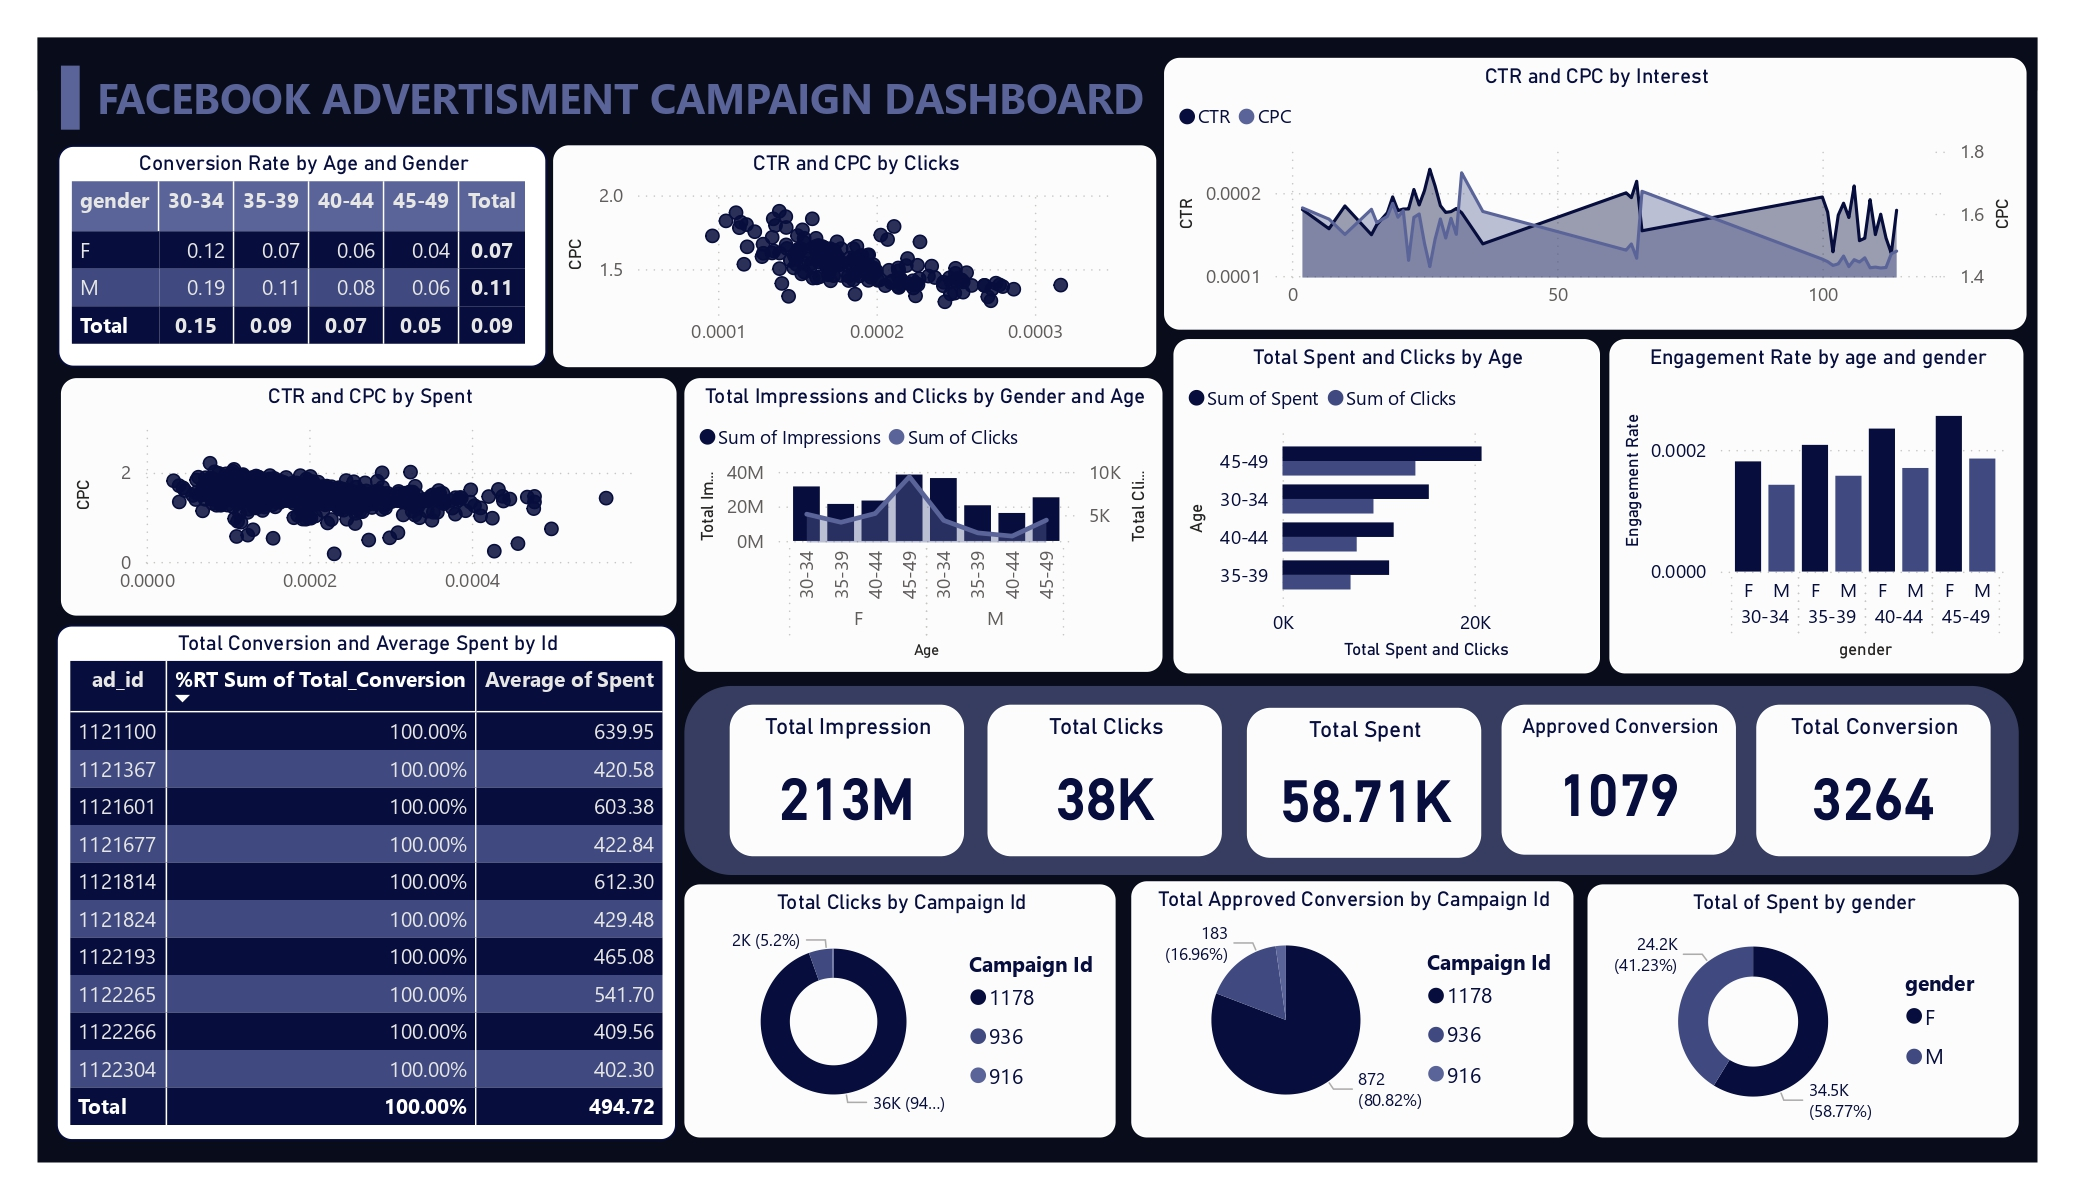

What the dashboard file says about the page in this screenshot:
{"tool":"powerbi","page":{"name":"Page 1","canvas":[1280,720],"ordinal":0},"visuals":[{"type":"clusteredBarChart","title":"Total Spent and Clicks by Age","fields":{"Y":["Sum(KAG_conversion_data.Spent)","Sum(KAG_conversion_data.Clicks)"],"Category":["KAG_conversion_data.age"]},"box":[727.1,192.9,272.9,214.3],"z":0},{"type":"pivotTable","title":"Total Conversion and Average Spent by Id","fields":{"Values":["Sum(KAG_conversion_data.Total_Conversion)","Avg(KAG_conversion_data.Spent)"],"Rows":["KAG_conversion_data.ad_id"]},"box":[11.9,376.2,397,329.8],"z":1000},{"type":"donutChart","title":"Total of Spent by gender","fields":{"Category":["KAG_conversion_data.gender"],"Y":["Sum(KAG_conversion_data.Spent)"]},"box":[991.7,541.7,276.2,161.9],"z":2000},{"type":"areaChart","title":"CTR and CPC by Interest","fields":{"Category":["KAG_conversion_data.interest"],"Y":["KAG_conversion_data.CTR"],"Y2":["KAG_conversion_data.CPC"]},"box":[721.4,12.9,551.4,174.3],"z":3000},{"type":"scatterChart","fields":{"Category":["KAG_conversion_data.Clicks","KAG_conversion_data.Impressions"],"Y":["KAG_conversion_data.CPC"],"X":["KAG_conversion_data.CTR"]},"box":[330,68.6,386.4,142.9],"z":4000},{"type":"pivotTable","title":"Conversion Rate by Age and Gender ","fields":{"Rows":["KAG_conversion_data.gender"],"Values":["KAG_conversion_data.Conversion Rate"],"Columns":["KAG_conversion_data.age"]},"box":[12.5,68.8,313.8,142.5],"z":5000},{"type":"clusteredColumnChart","fields":{"Category":["KAG_conversion_data.age","KAG_conversion_data.gender"],"Y":["KAG_conversion_data.Engagement Rate"]},"box":[1006,192.9,265.5,214.3],"z":6000},{"type":"donutChart","title":"Total Clicks by Campaign Id","fields":{"Y":["Sum(KAG_conversion_data.Clicks)"],"Category":["KAG_conversion_data.xyz_campaign_id"]},"box":[414.3,541.7,276.2,161.9],"z":7000},{"type":"pieChart","title":"Total Approved Conversion by Campaign Id","fields":{"Category":["KAG_conversion_data.xyz_campaign_id"],"Y":["Sum(KAG_conversion_data.Approved_Conversion)"]},"box":[700,540.5,283.3,163.1],"z":8000},{"type":"lineClusteredColumnComboChart","title":"Total Impressions and Clicks by Gender and Age","fields":{"Category":["KAG_conversion_data.gender","KAG_conversion_data.age"],"Y":["Sum(KAG_conversion_data.Impressions)"],"Y2":["Sum(KAG_conversion_data.Clicks)"]},"box":[413.8,217.5,306.2,188.8],"z":9000},{"type":"shape","box":[414.3,415.5,853.6,120.2],"z":10000},{"type":"card","title":"Total Impression","fields":{"Values":["Sum(KAG_conversion_data.Impressions)"]},"box":[442.9,427.4,150,96.4],"z":11000},{"type":"card","title":"Total Spent","fields":{"Values":["Sum(KAG_conversion_data.Spent)"]},"box":[773.8,428.6,150,96.4],"z":12000},{"type":"card","title":"Approved Conversion","fields":{"Values":["Sum(KAG_conversion_data.Approved_Conversion)"]},"box":[936.7,426.7,150,96.7],"z":13000},{"type":"card","title":"Total Conversion","fields":{"Values":["Sum(KAG_conversion_data.Total_Conversion)"]},"box":[1100,427.4,150,96.4],"z":14000},{"type":"card","title":"Total Clicks","fields":{"Values":["Sum(KAG_conversion_data.Clicks)"]},"box":[608.3,427.4,150,96.4],"z":15000},{"type":"shape","box":[15.2,17.6,12.1,41],"z":16000},{"type":"textbox","box":[33.3,15,686.7,53.3],"z":17000},{"type":"scatterChart","fields":{"Y":["KAG_conversion_data.CPC"],"X":["KAG_conversion_data.CTR"],"Category":["KAG_conversion_data.Spent"]},"box":[15,217.9,394.3,152.1],"z":20000}]}

Visuals, with their boxes in screenshot pixels (x1, y1, x2, y2):
"Total Spent and Clicks by Age" clusteredBarChart: bbox=[1174, 339, 1600, 674]
"Total Conversion and Average Spent by Id" pivotTable: bbox=[56, 625, 676, 1141]
"Total of Spent by gender" donutChart: bbox=[1587, 884, 2019, 1137]
"CTR and CPC by Interest" areaChart: bbox=[1165, 58, 2026, 330]
scatterChart - KAG_conversion_data.Clicks x KAG_conversion_data.Impressions: bbox=[553, 145, 1157, 368]
"Conversion Rate by Age and Gender " pivotTable: bbox=[57, 145, 547, 368]
clusteredColumnChart - KAG_conversion_data.age x KAG_conversion_data.gender: bbox=[1609, 339, 2024, 674]
"Total Clicks by Campaign Id" donutChart: bbox=[685, 884, 1116, 1137]
"Total Approved Conversion by Campaign Id" pieChart: bbox=[1131, 882, 1574, 1137]
"Total Impressions and Clicks by Gender and Age" lineClusteredColumnComboChart: bbox=[684, 377, 1162, 672]
shape: bbox=[685, 687, 2019, 875]
"Total Impression" card: bbox=[730, 705, 964, 856]
"Total Spent" card: bbox=[1247, 707, 1481, 858]
"Approved Conversion" card: bbox=[1501, 704, 1735, 855]
"Total Conversion" card: bbox=[1756, 705, 1991, 856]
"Total Clicks" card: bbox=[988, 705, 1222, 856]
shape: bbox=[61, 65, 80, 129]
textbox: bbox=[90, 61, 1162, 144]
scatterChart - KAG_conversion_data.CPC x KAG_conversion_data.CTR: bbox=[61, 378, 677, 616]
